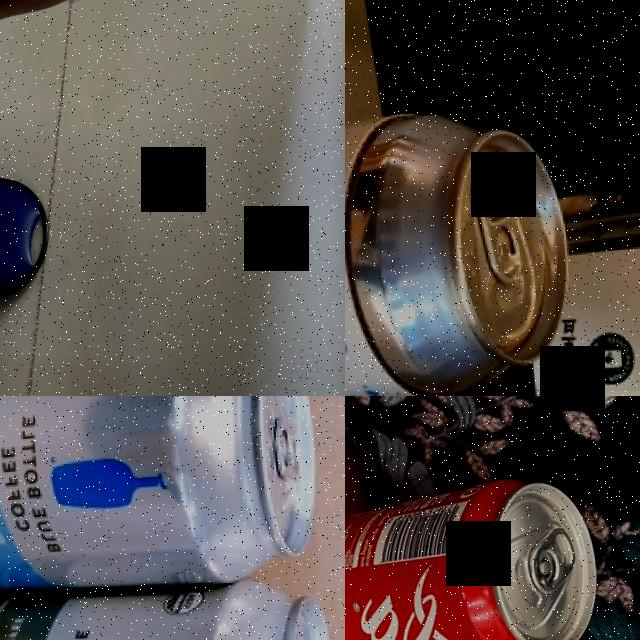can: (345, 103, 579, 396), (0, 396, 323, 602), (345, 470, 603, 640), (0, 566, 342, 640)
